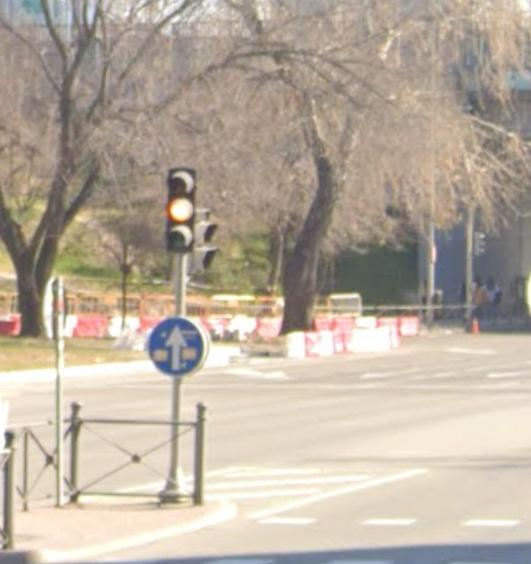yellow_light: (166, 167, 195, 252)
